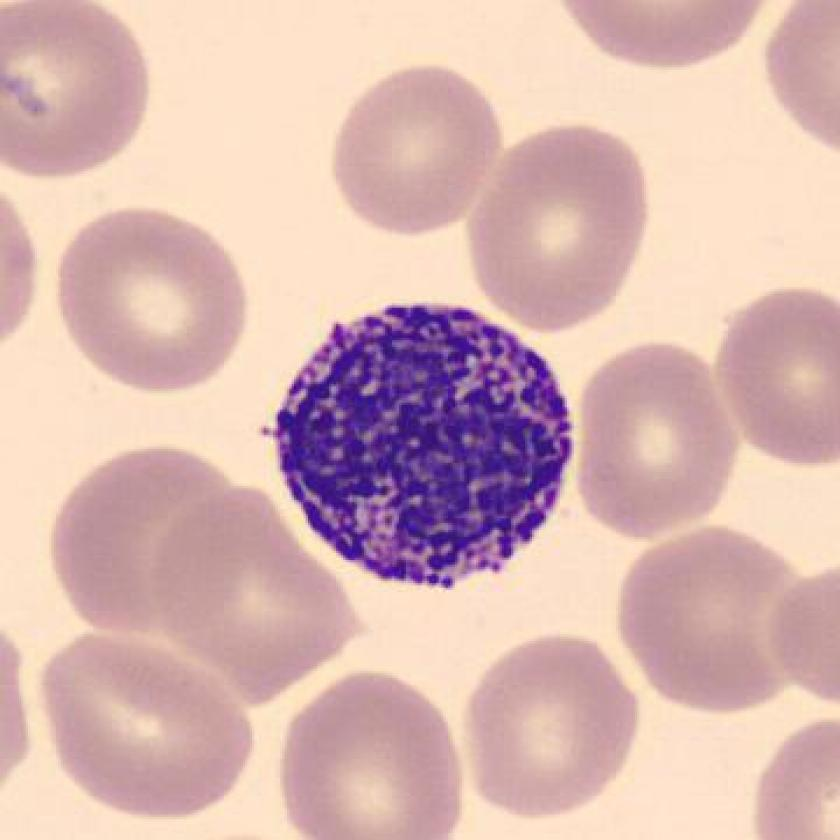basophil: (258, 297, 584, 591)
